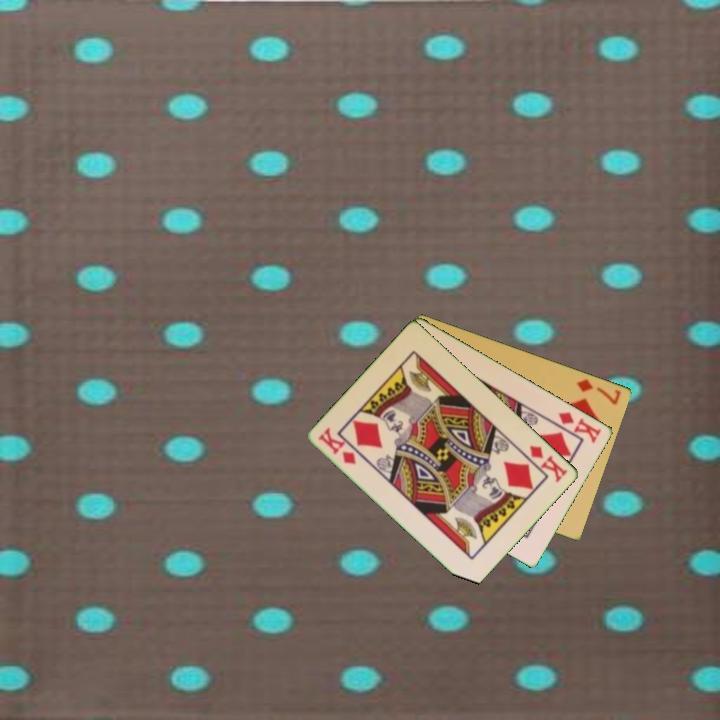7d: (573, 375, 624, 408)
Kd: (526, 441, 571, 485), (555, 408, 605, 446), (315, 424, 359, 467)
